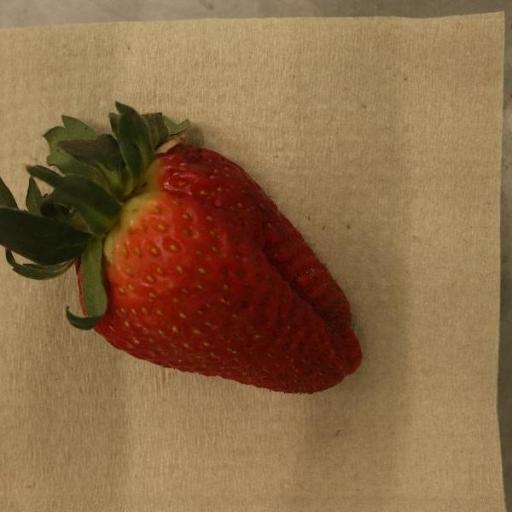Strawberry: (0, 103, 362, 395)
